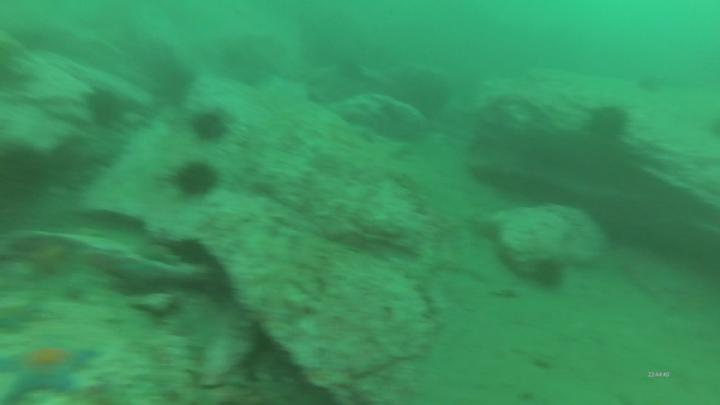echinus: (171, 157, 223, 201), (87, 88, 122, 132), (593, 100, 630, 139), (189, 106, 228, 140), (533, 256, 568, 292)
starfish: (1, 342, 104, 404), (22, 236, 80, 282)
